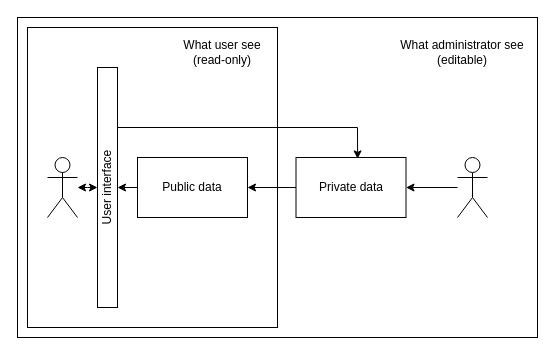
Some shapes in this 555 by 355 pixel diagram are drawn without their labels. The box of each missing label's shape, as (x1, y1, x2, y2) in pixels:
Administrator: (456, 156, 488, 218)
User: (46, 156, 78, 218)
